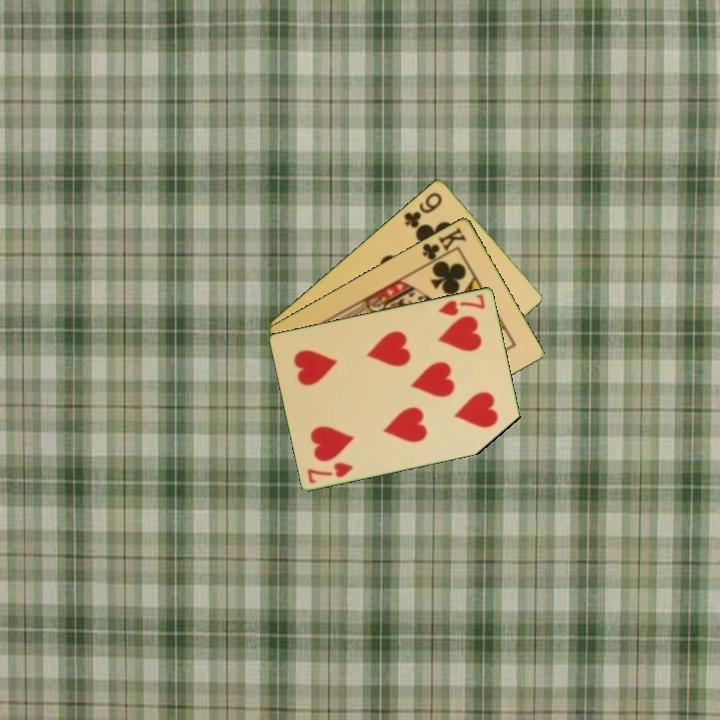7h: (435, 290, 488, 318), (304, 458, 356, 486)
9c: (400, 188, 445, 231)
Kc: (419, 223, 469, 267)
